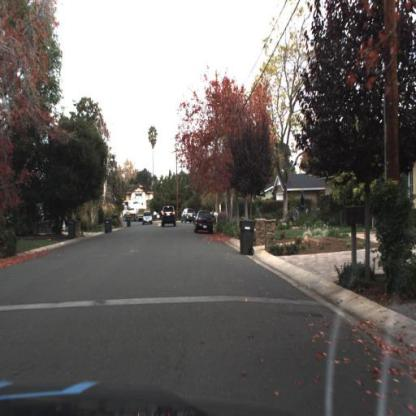car: (193, 210, 214, 234), (159, 204, 179, 229), (183, 209, 196, 224), (143, 212, 153, 226)
